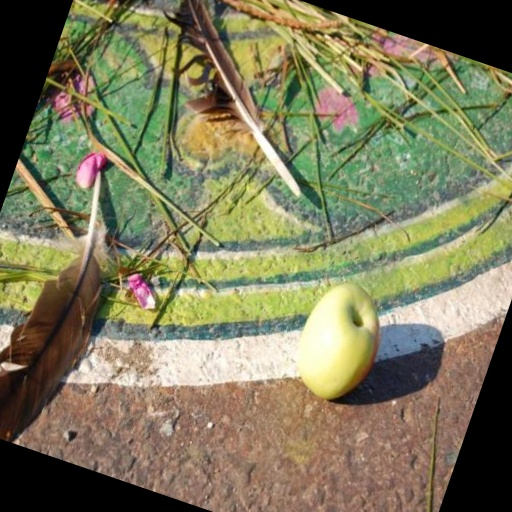fruit: (92, 157, 512, 512)
